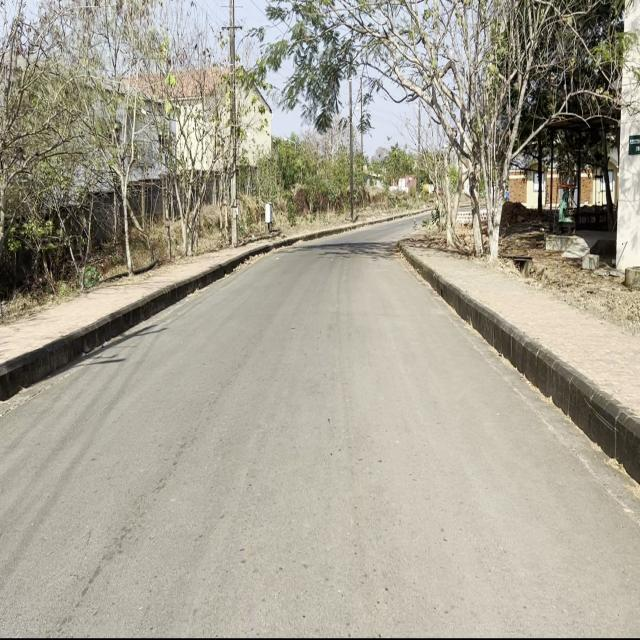Road: (2, 230, 636, 633)
